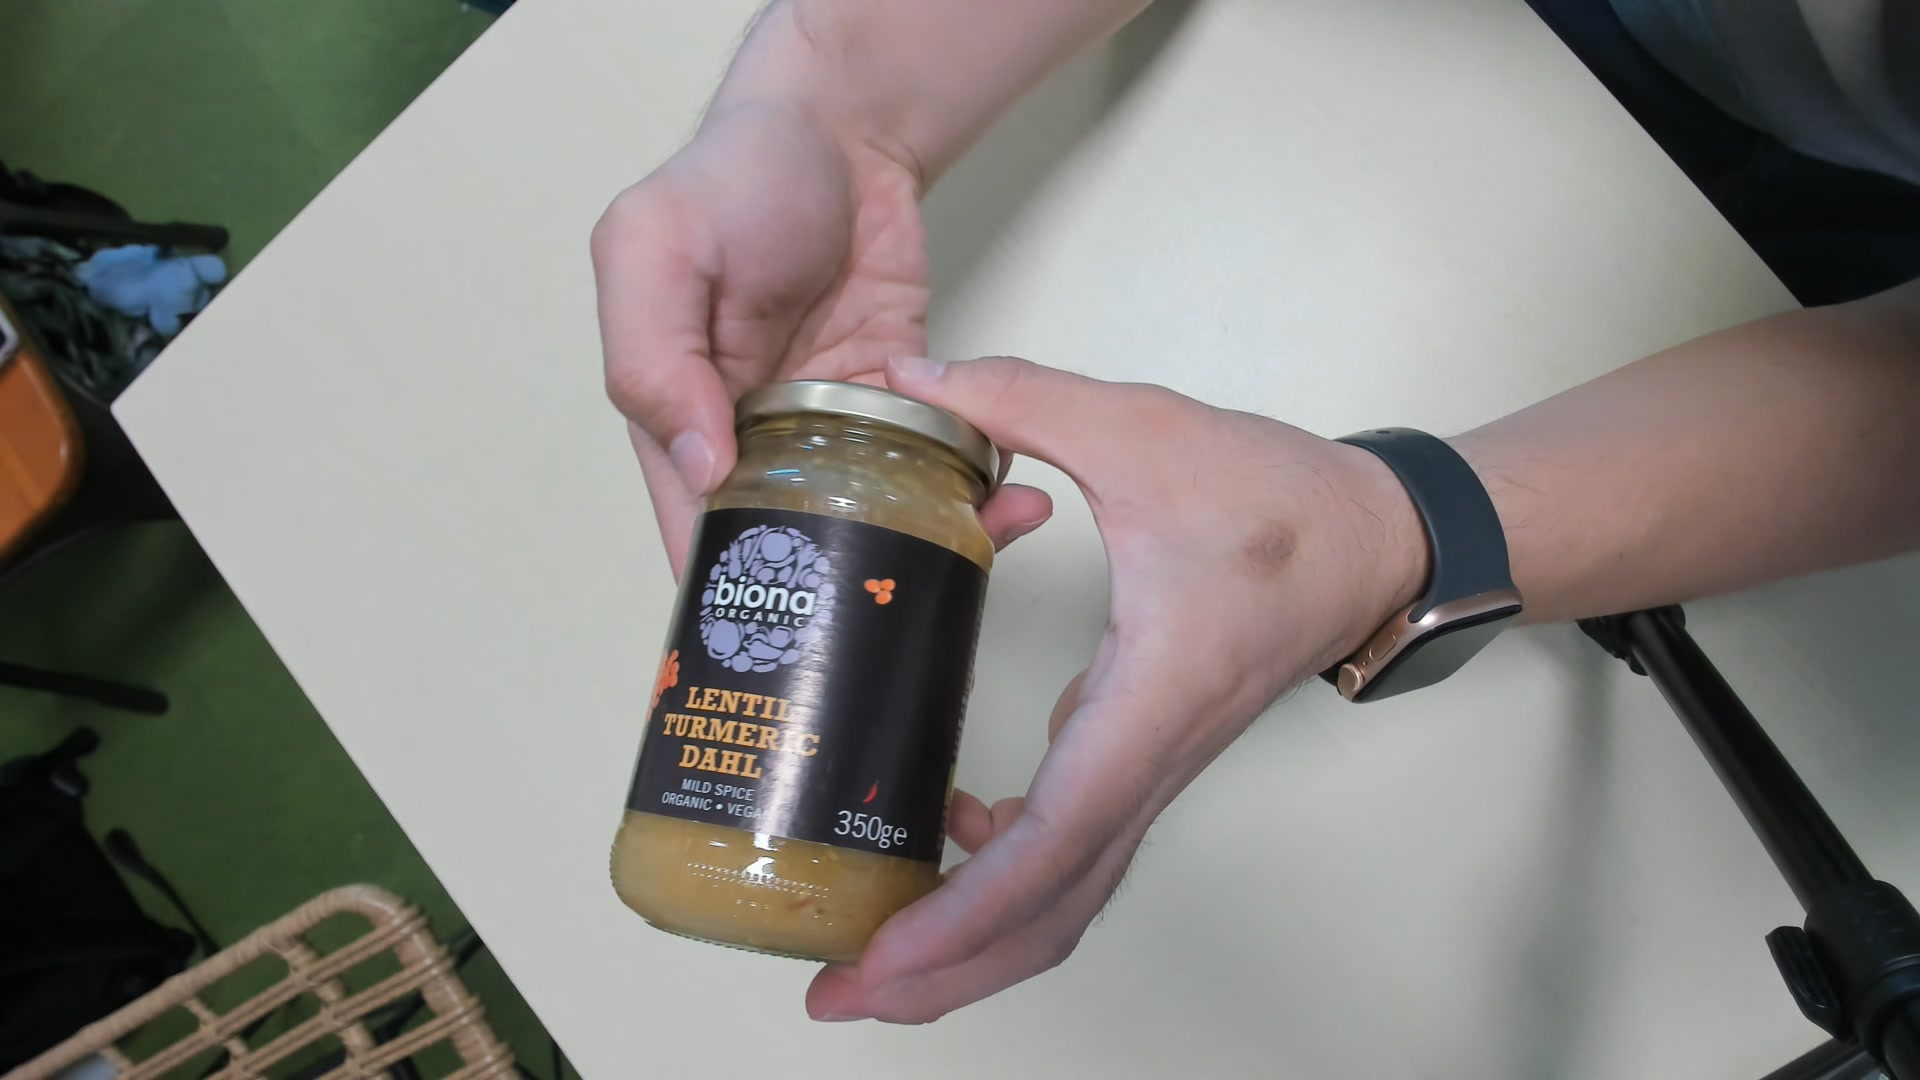OtherSauceDressing_300-399g_NonHalal_NonHealthy: (611, 380, 1000, 963)
